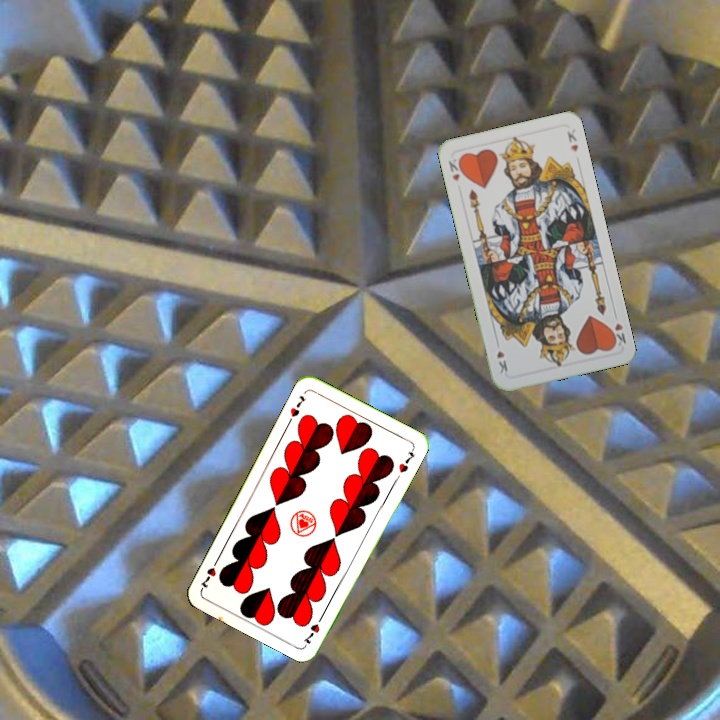H7: (301, 610, 326, 648), (286, 391, 309, 420)
HK: (606, 308, 629, 350), (444, 154, 466, 183)
